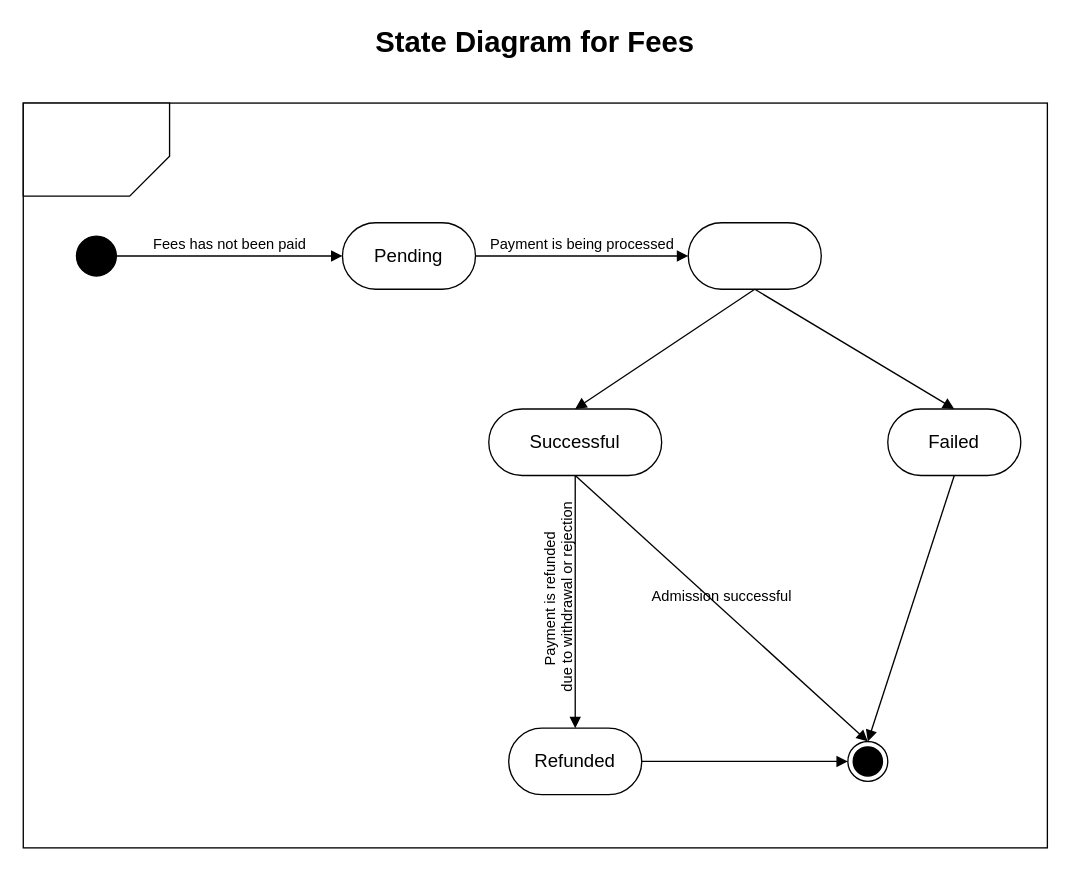
Some shapes in this 1071 by 871 pixel diagram are drawn without their labels. The centre of each missing label's shape, as x and y in pixels:
Fees: point 96,149
In progress: point 754,255
